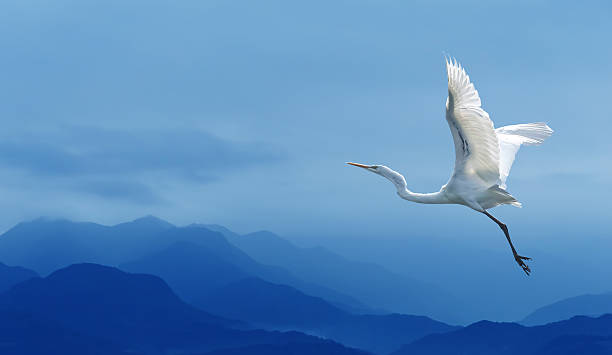Bird: (339, 46, 556, 278)
